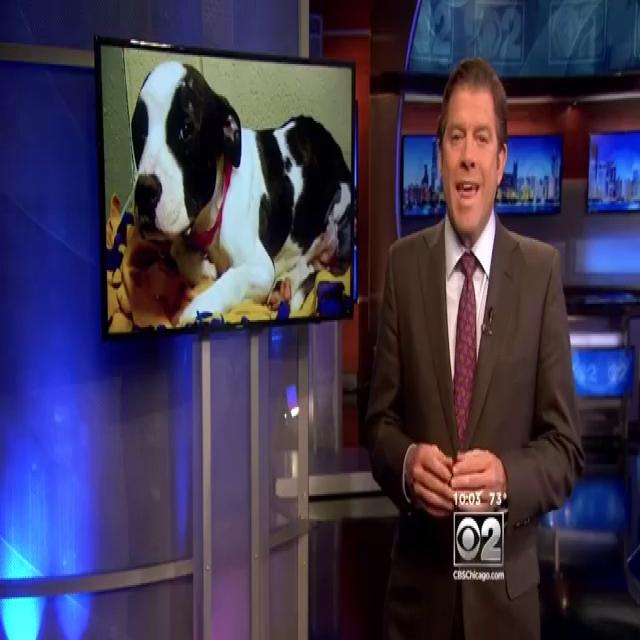normal_animals: (120, 55, 356, 325)
